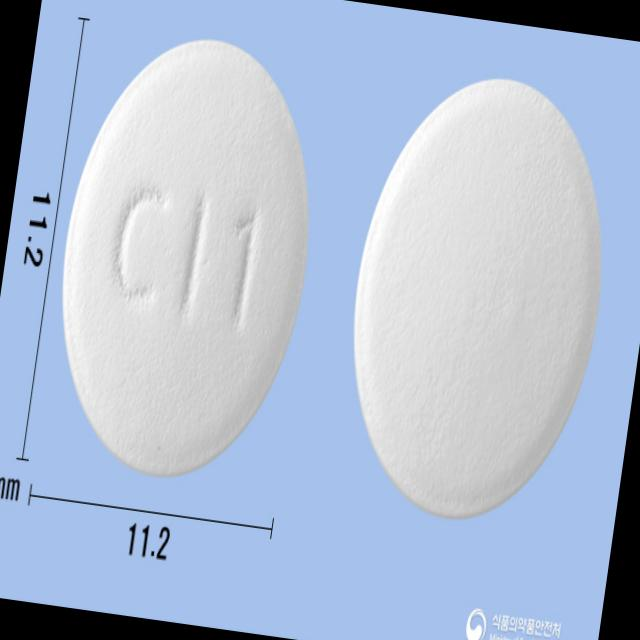Ciprocell: (34, 19, 342, 503)
